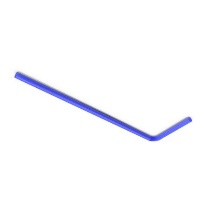drinking_straw: (5, 66, 197, 146)
